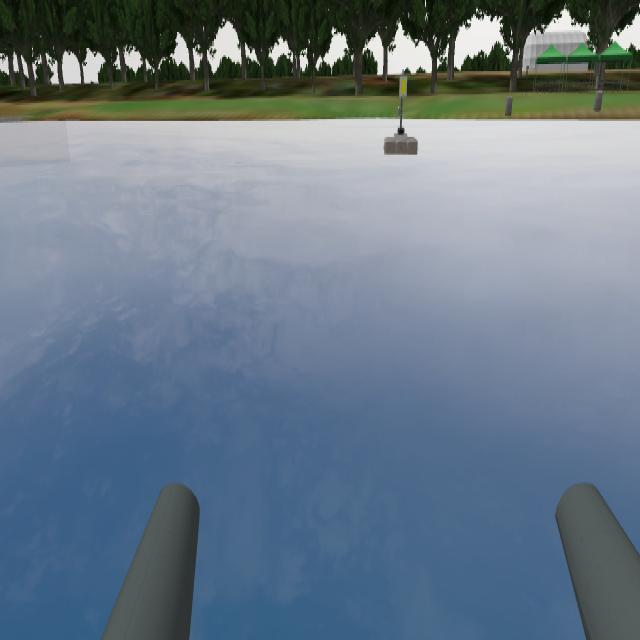yellow_pole: (396, 65, 412, 105)
